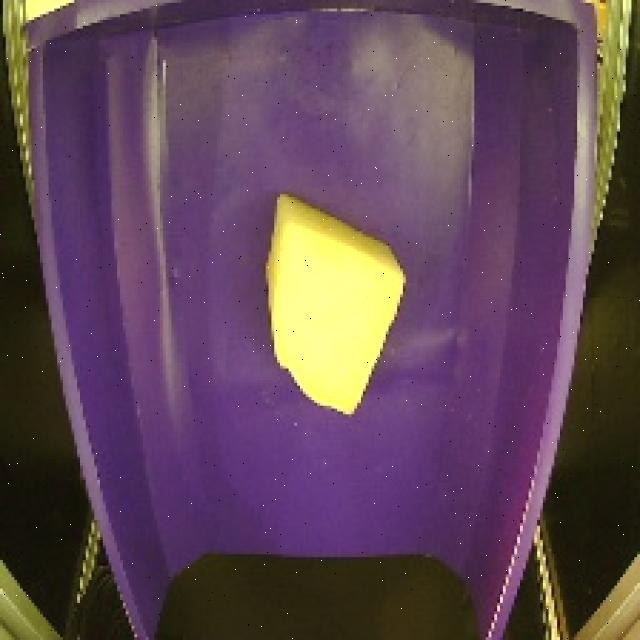potato: (260, 188, 415, 425)
